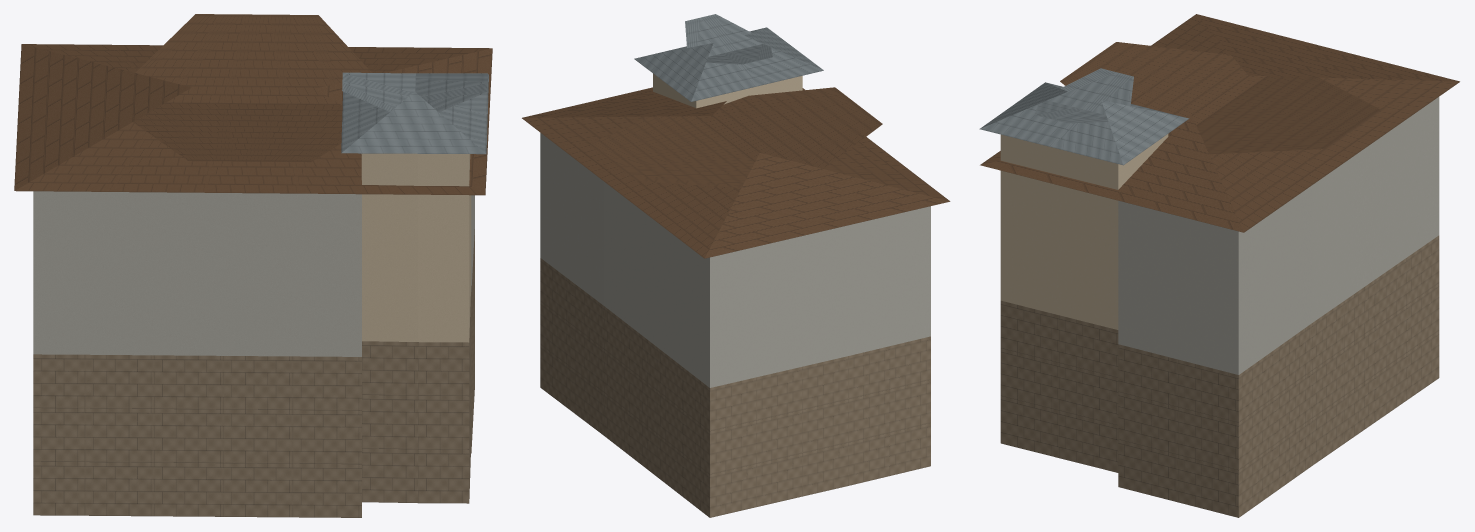
The model's file is bld_c30_-38_467.gltf.
3 views of the same model, side by side, from view 1: azimuth 30°, elevation 25°; view 2: azimuth 150°, elevation 25°; view 3: azimuth 270°, elevation 25° (orthographic). The views are drawn at different scales.
Parts seen in each view (by area): view 1: bld_c30_-38_467; view 2: bld_c30_-38_467; view 3: bld_c30_-38_467.
Part boxes in pixels (bbox=[...]): bld_c30_-38_467: bbox=[14, 14, 492, 517]; bld_c30_-38_467: bbox=[522, 14, 950, 517]; bld_c30_-38_467: bbox=[979, 14, 1459, 517].
Bounding box in the file's own units: 16.75 × 12.8 × 15.57.
Materials: 5 (5 with a texture image).
